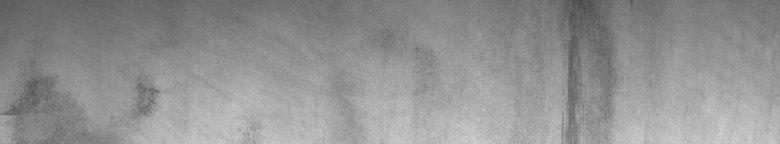ka: (560, 13, 606, 136)
